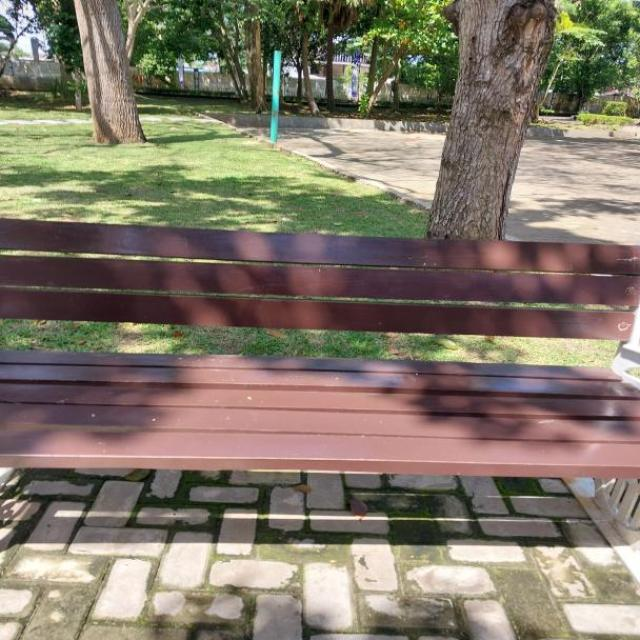bench ahead at: (0, 222, 640, 536)
